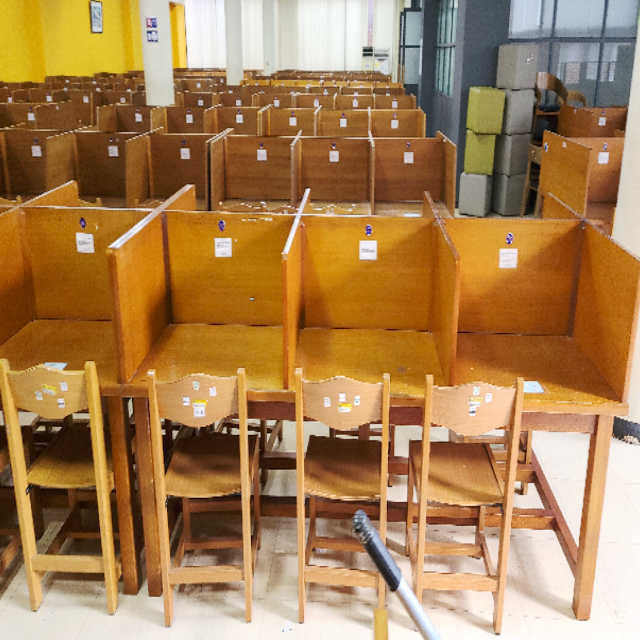empty: (466, 206, 640, 488), (125, 199, 291, 490), (298, 205, 459, 488)
